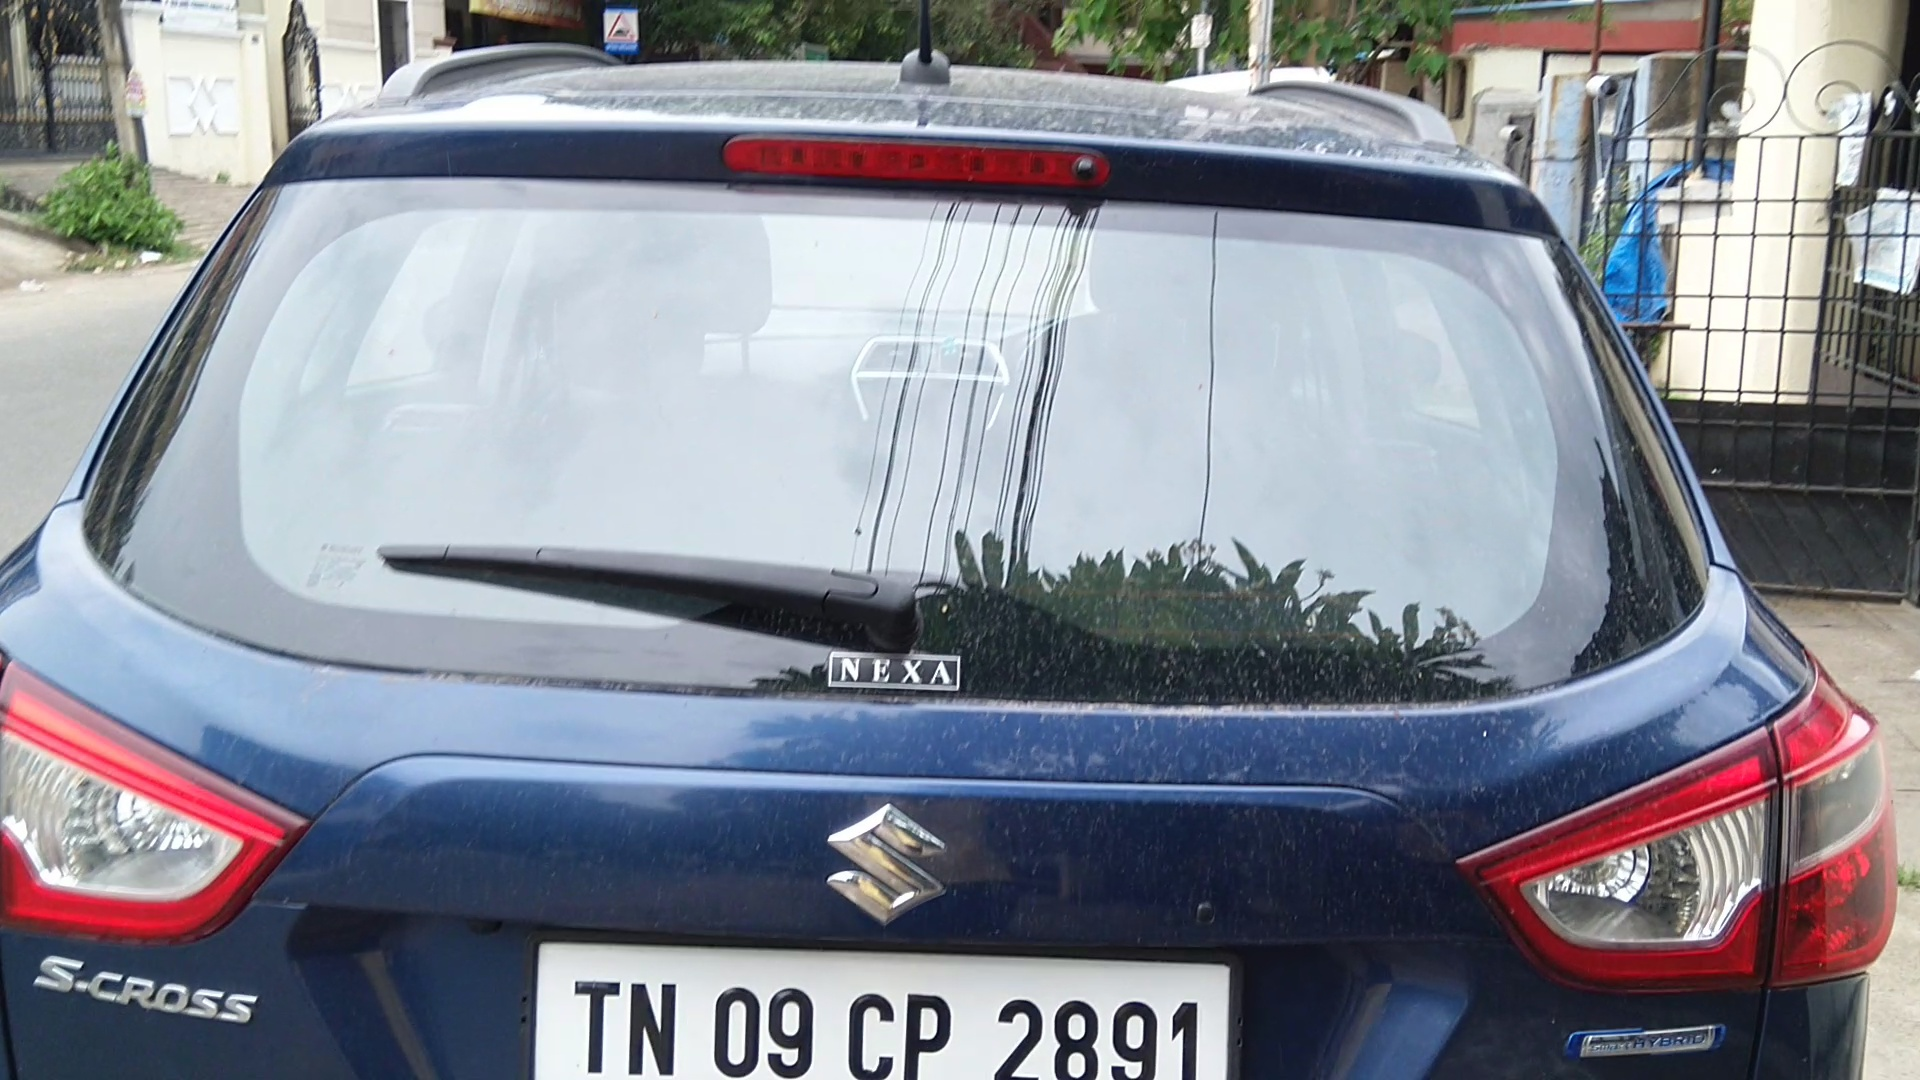rear_camera: (1064, 152, 1105, 190)
shvs: (1553, 1002, 1753, 1080)
